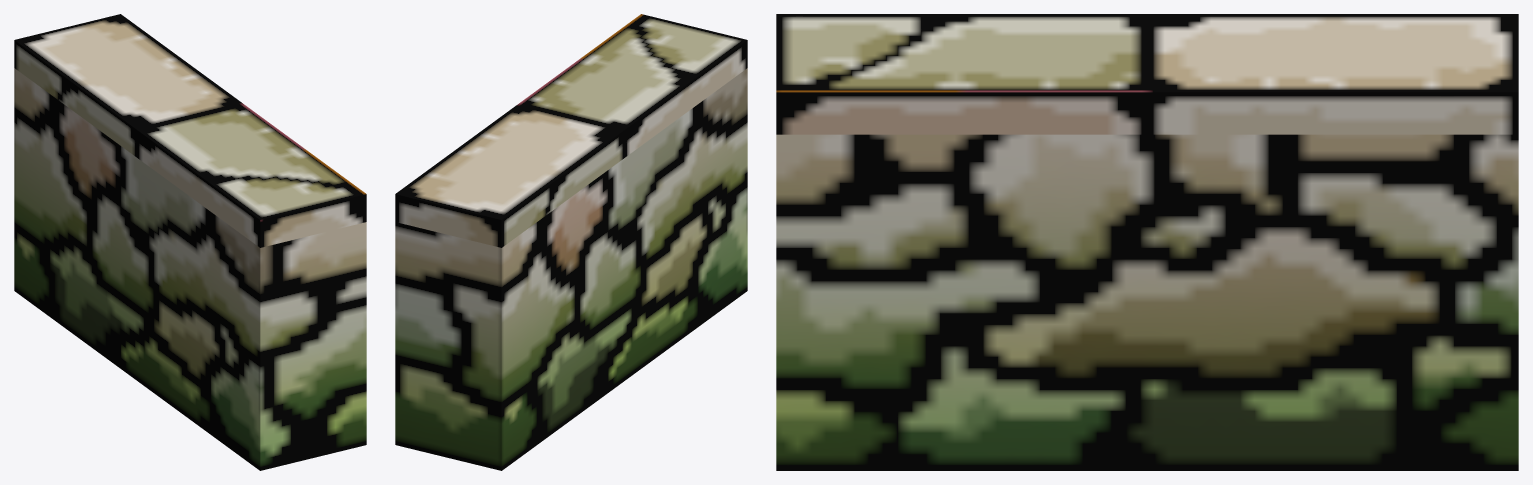
File: deco_wallAMoss.FBX
3 renders of one model, left to right at view 1: azimuth 30°, elevation 25°; view 2: azimuth 150°, elevation 25°; view 3: azimuth 270°, elevation 25°, orthographic. The views are drawn at different scales.
Visible parts, largest first — view 1: deco_wallAMoss; view 2: deco_wallAMoss; view 3: deco_wallAMoss.
Part boxes in pixels (x1,y1,x2,y2): deco_wallAMoss: (14,14,366,470); deco_wallAMoss: (395,14,747,470); deco_wallAMoss: (776,14,1518,470).
Size of the model in its own units: 0.5 by 1.13 by 2.
1 material, 1 textured.
